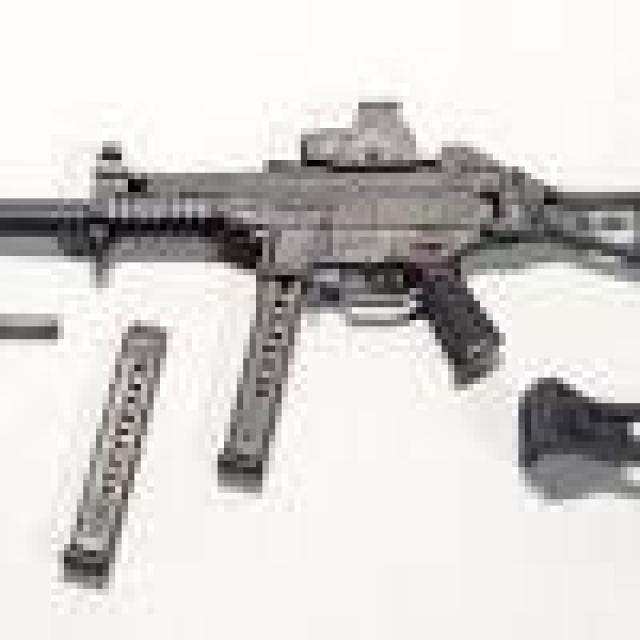Gun: (0, 77, 640, 496)
